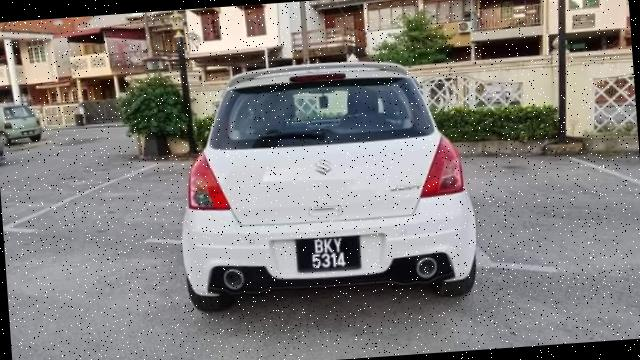License_Plate: (298, 234, 356, 276)
car: (168, 50, 482, 309)
